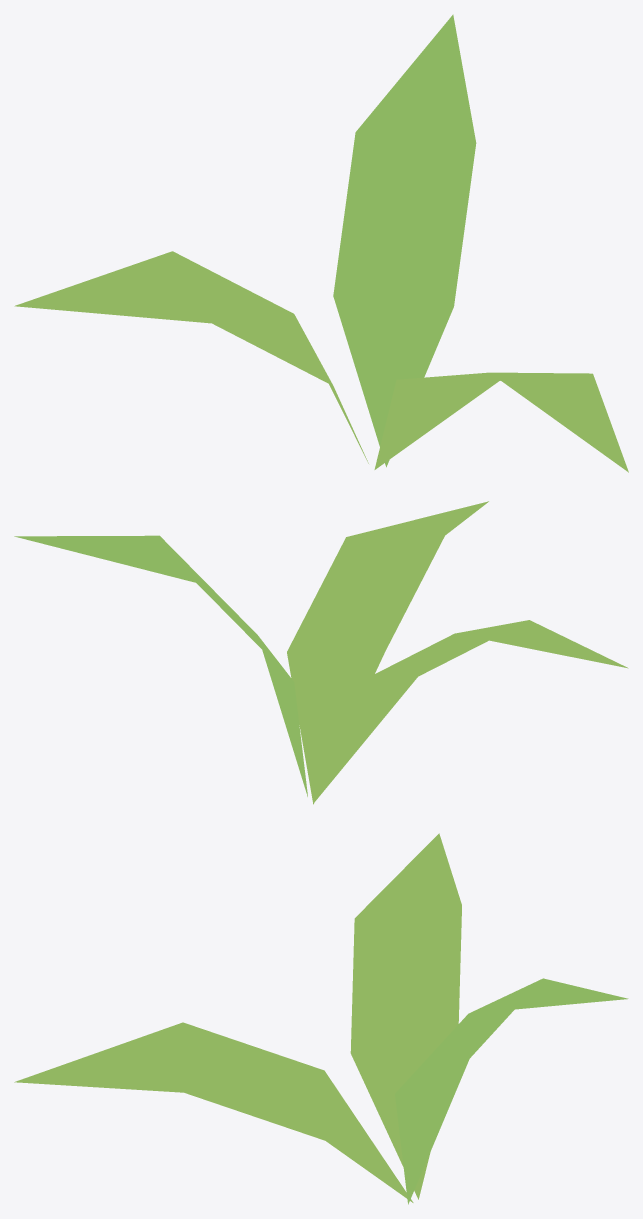
File: Plant_b_TwoS_04.fbx
3 views of the same model, one above another, from view 1: azimuth 30°, elevation 25°; view 2: azimuth 150°, elevation 25°; view 3: azimuth 270°, elevation 25° (orthographic). The views are drawn at different scales.
Parts seen in each view (by area): view 1: Plant_b_TwoS_04; view 2: Plant_b_TwoS_04; view 3: Plant_b_TwoS_04.
Part boxes in pixels (left/top/right/bottom): Plant_b_TwoS_04: left=14, top=14, right=628, bottom=472; Plant_b_TwoS_04: left=14, top=501, right=628, bottom=804; Plant_b_TwoS_04: left=14, top=833, right=628, bottom=1204.
Bounding box in the file's own units: 0.7124 × 0.4025 × 0.768.
